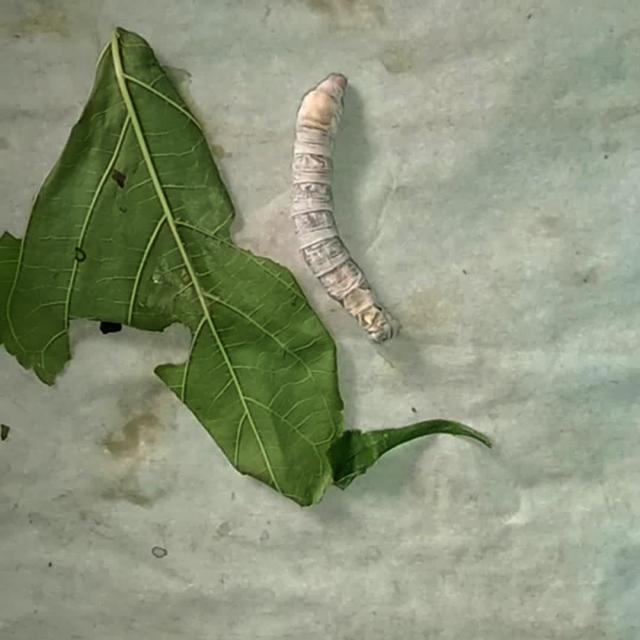Grasserie: (270, 61, 398, 346)
